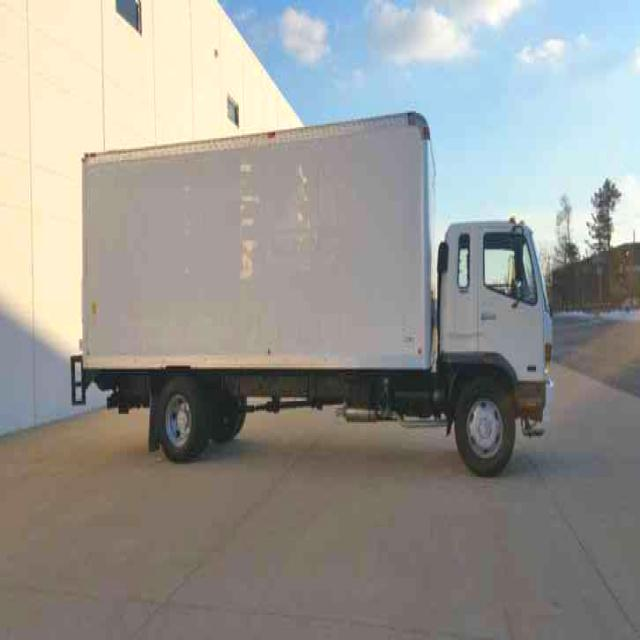truck: (72, 111, 557, 468)
